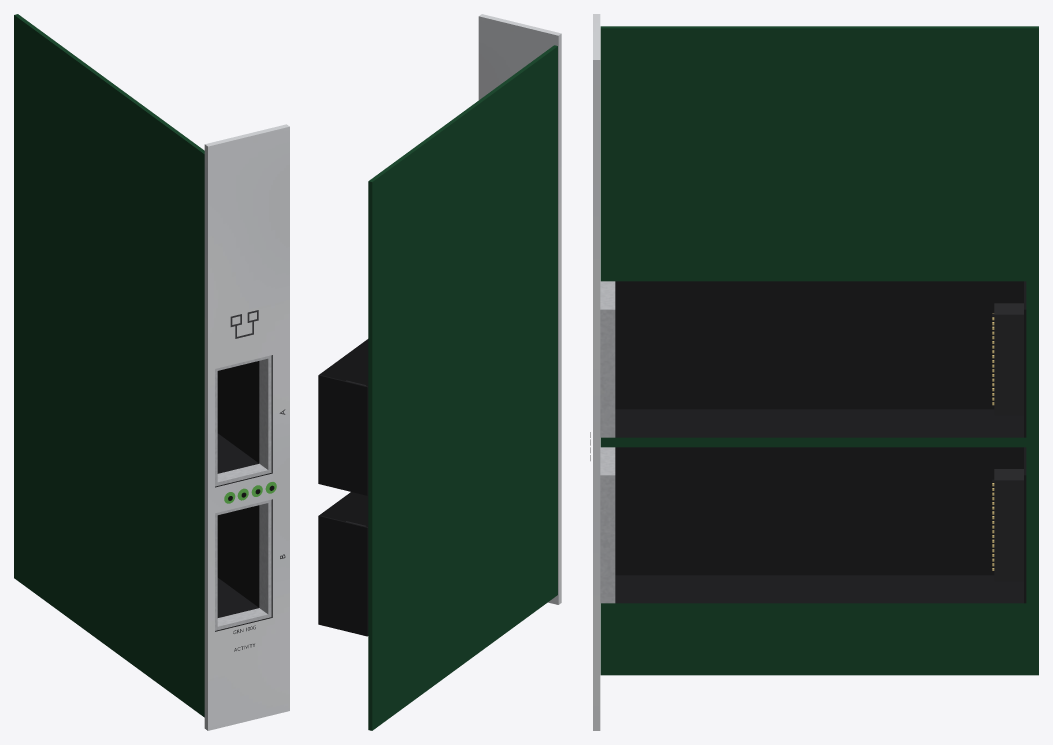
Rendered from E810-CQDA2-FH.glb.
The picture shows the model from 3 angles, left to right: view 1: azimuth 30°, elevation 25°; view 2: azimuth 150°, elevation 25°; view 3: azimuth 270°, elevation 25°; orthographic projection. The views are drawn at different scales.
Visible parts, largest first — view 1: Card; view 2: Card; view 3: Card.
Boxes of the visible parts, x1,y1,x2,y2 form: Card: [14, 14, 289, 730]; Card: [318, 14, 561, 730]; Card: [593, 14, 1038, 730].
Size of the model in its own units: 0.0146 by 0.0996 by 0.0604.
9 materials, 2 textured.
